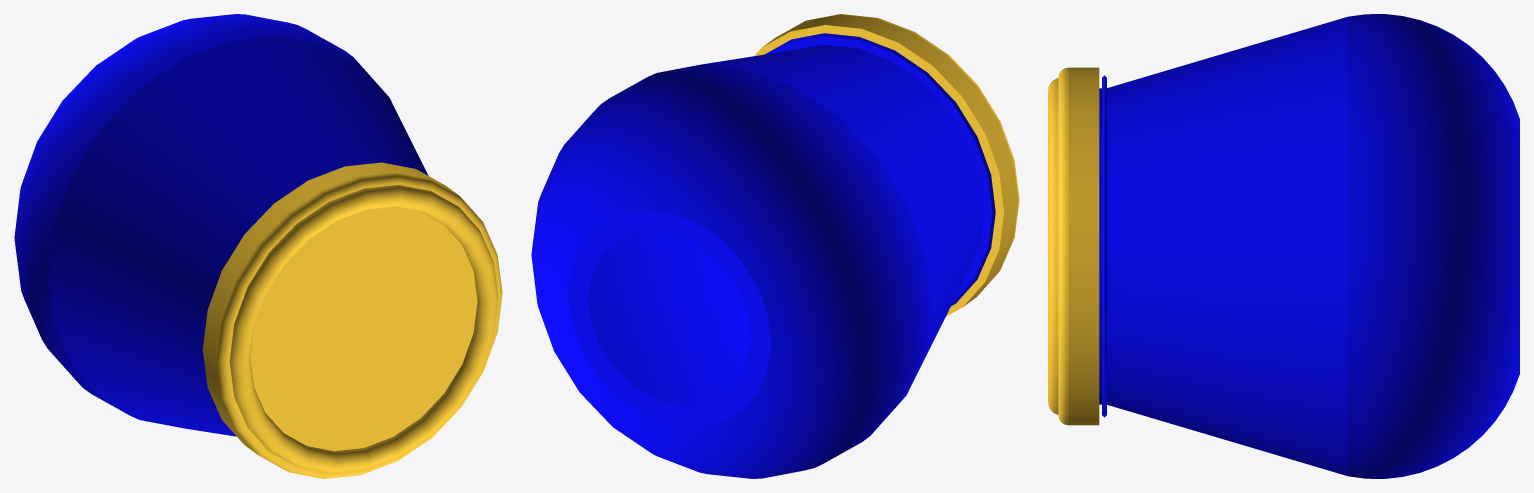
The model's file is model_scale.obj.
3 views of the same model, side by side, from view 1: azimuth 30°, elevation 25°; view 2: azimuth 150°, elevation 25°; view 3: azimuth 270°, elevation 25° (orthographic). The views are drawn at different scales.
Parts seen in each view (by area): view 1: mesh6_mesh6-geometry, mesh1_mesh1-geometry; view 2: mesh6_mesh6-geometry, mesh1_mesh1-geometry; view 3: mesh6_mesh6-geometry, mesh1_mesh1-geometry.
Part boxes in pixels (left/top/right/bottom): mesh6_mesh6-geometry: left=14, top=14, right=428, bottom=436; mesh1_mesh1-geometry: left=202, top=162, right=502, bottom=478; mesh6_mesh6-geometry: left=531, top=33, right=995, bottom=478; mesh1_mesh1-geometry: left=754, top=14, right=1019, bottom=316; mesh6_mesh6-geometry: left=1099, top=14, right=1519, bottom=478; mesh1_mesh1-geometry: left=1048, top=67, right=1099, bottom=425.
Size of the model in its own units: 0.0925 by 0.0925 by 0.0935.
